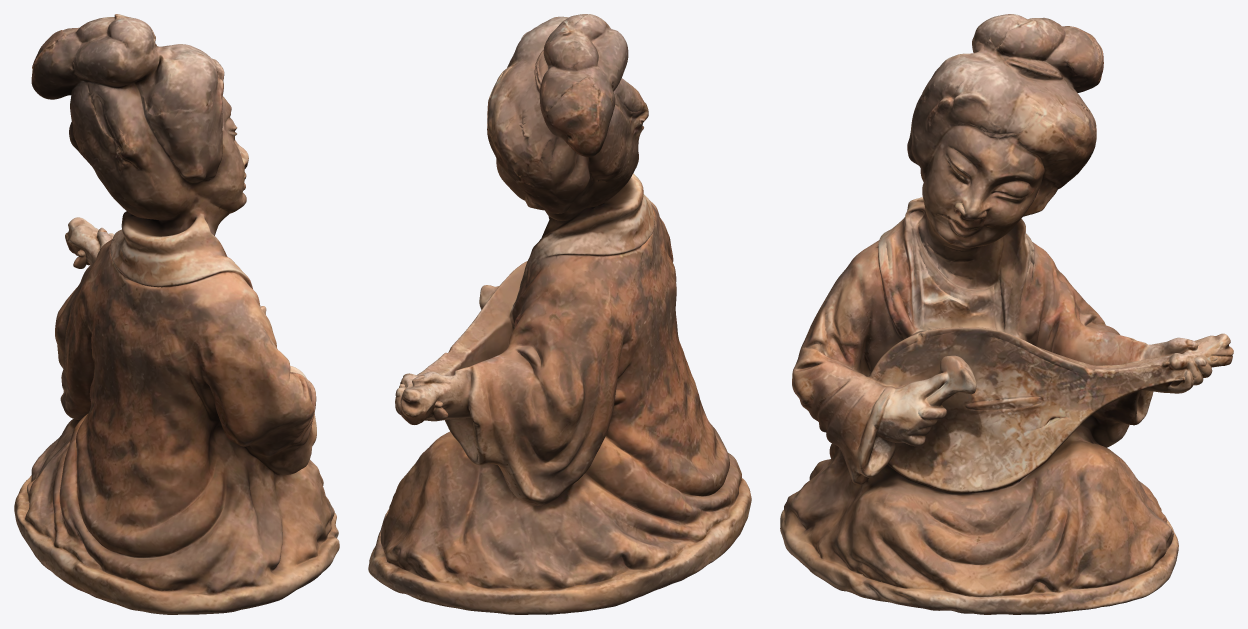
File: pipa-figurine-web-desktop.glb
3 renders of one model, left to right at view 1: azimuth 30°, elevation 25°; view 2: azimuth 150°, elevation 25°; view 3: azimuth 270°, elevation 25°, orthographic. The views are drawn at different scales.
Visible parts, largest first — view 1: tripo_node_8b8ca17e-7261-4cbe-82ad-aca870084602; view 2: tripo_node_8b8ca17e-7261-4cbe-82ad-aca870084602; view 3: tripo_node_8b8ca17e-7261-4cbe-82ad-aca870084602.
Part boxes in pixels (left/top/right/bottom): tripo_node_8b8ca17e-7261-4cbe-82ad-aca870084602: left=14, top=14, right=339, bottom=614; tripo_node_8b8ca17e-7261-4cbe-82ad-aca870084602: left=368, top=14, right=751, bottom=614; tripo_node_8b8ca17e-7261-4cbe-82ad-aca870084602: left=780, top=14, right=1233, bottom=614.
Bounding box in the file's own units: 0.5396 × 0.9811 × 0.7784.
1 material, 1 textured.
